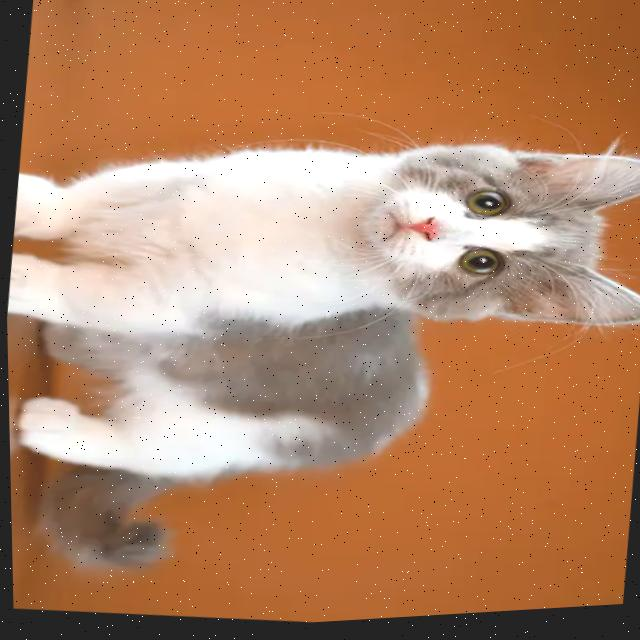Munchkin: (2, 92, 640, 632)
